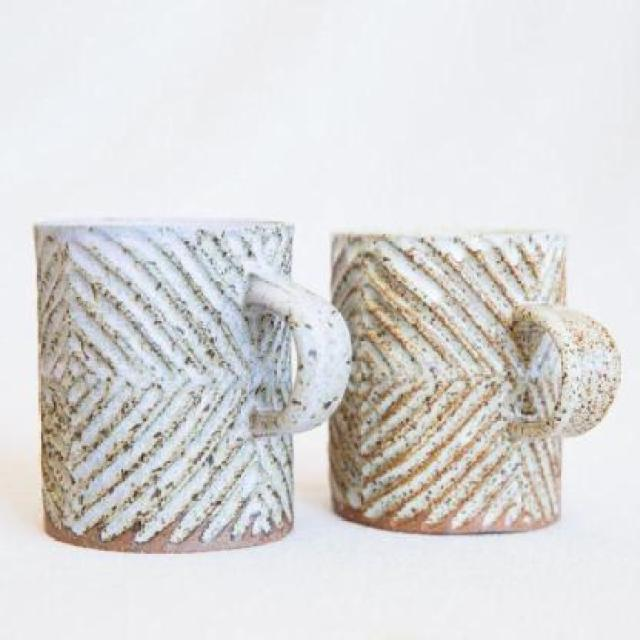glass: (31, 215, 352, 554), (328, 226, 617, 530)
